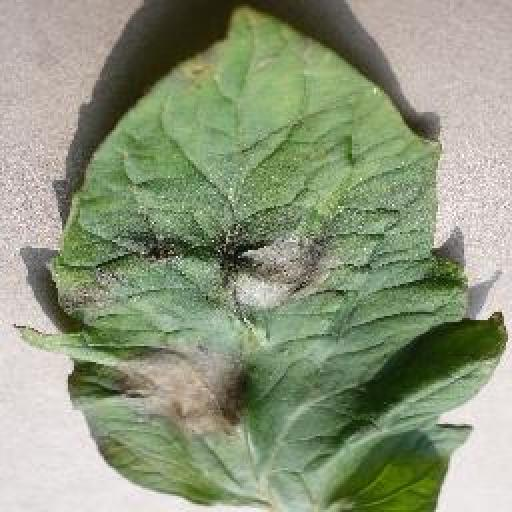disease_tomato: (8, 6, 510, 512)
